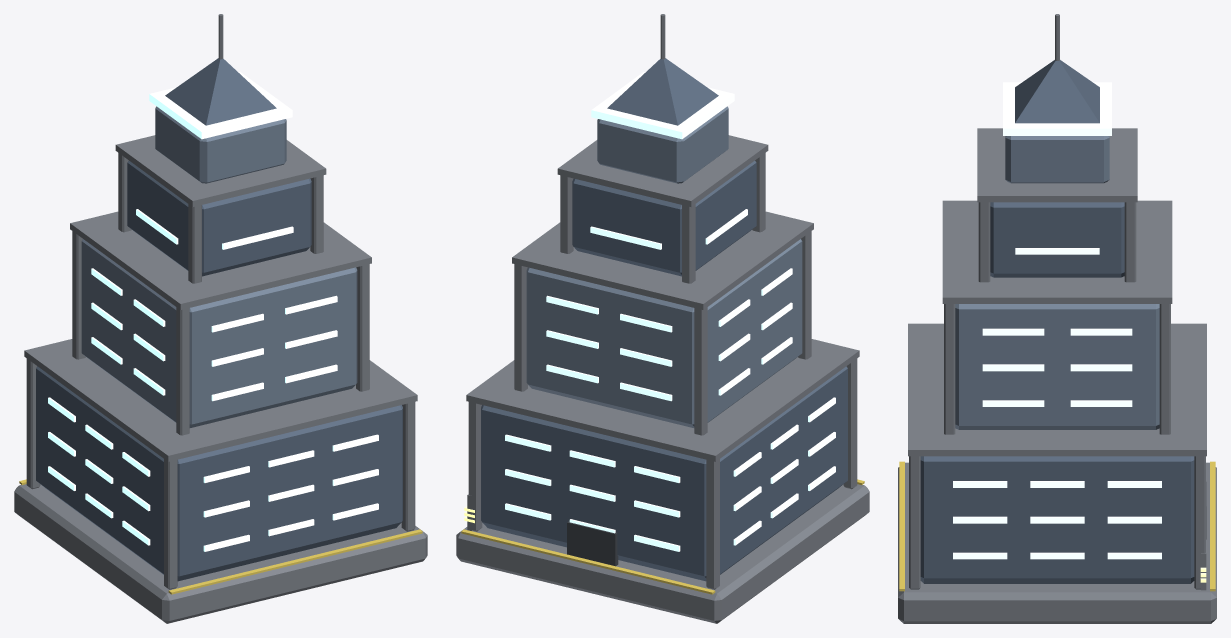
The model's file is zone_high_1_t3.glb.
The picture shows the model from 3 angles, left to right: view 1: azimuth 30°, elevation 25°; view 2: azimuth 150°, elevation 25°; view 3: azimuth 270°, elevation 25°; orthographic projection. The views are drawn at different scales.
Visible parts, largest first — view 1: zone_high_1_t3, detail; view 2: zone_high_1_t3, detail; view 3: zone_high_1_t3, detail.
Part boxes in pixels (bbox=[...]): zone_high_1_t3: bbox=[14, 58, 427, 623]; detail: bbox=[19, 14, 422, 594]; zone_high_1_t3: bbox=[456, 58, 869, 623]; detail: bbox=[461, 14, 864, 594]; zone_high_1_t3: bbox=[898, 60, 1216, 623]; detail: bbox=[899, 14, 1215, 591].
Bounding box in the file's own units: 27.5 × 51.78 × 27.5.
